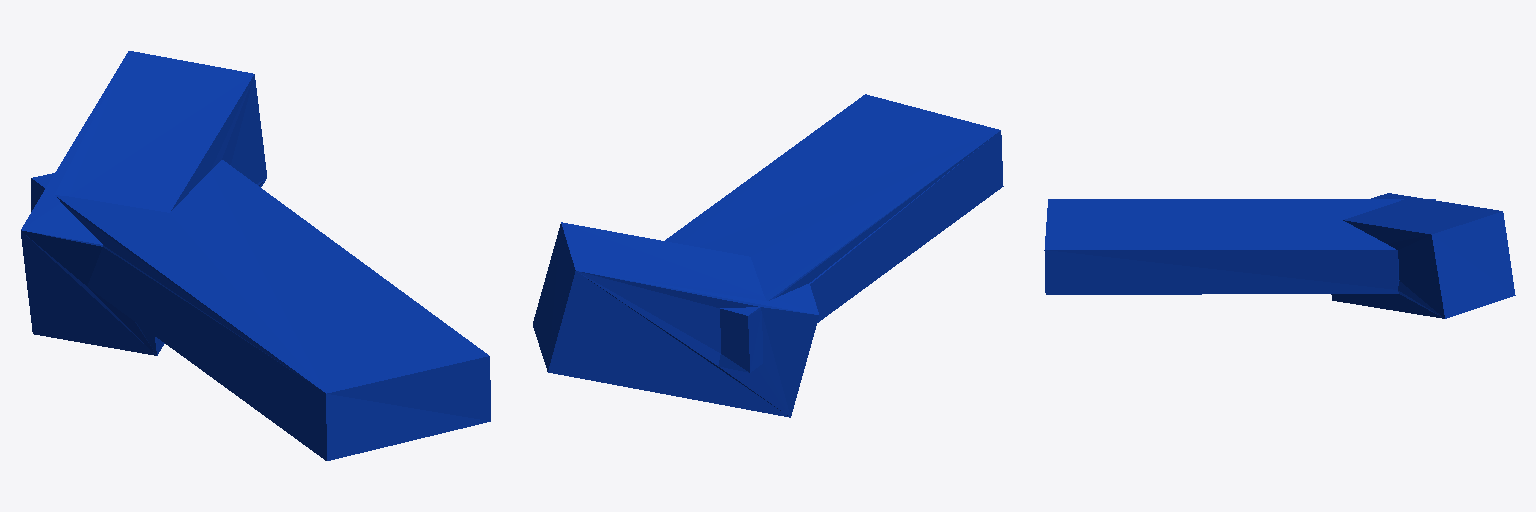
URDF robot description (blob764):

<robot name="blob764">
  <link name="random_obj_764">
    <contact>
      <lateral_friction value="1.0"/>
      <rolling_friction value="0.0"/>
      <inertia_scaling value="3.0"/>
      <contact_cfm value="0.0"/>
      <contact_erp value="1.0"/>
    </contact>
    <inertial>
      <origin rpy="0 0 0" xyz="0 0 0"/>
      <mass value="0.0986"/>
      <inertia ixx="1" ixy="0" ixz="0" iyy="1" iyz="0" izz="0"/>
    </inertial>
    <visual>
      <origin rpy="0 0 0" xyz="0 0 0"/>
      <geometry>
        <mesh filename="764.obj" scale="0.0092 0.0092 0.0092"/>
      </geometry>
      <material name="blockmat">
        <color rgba="0.09 0.29 0.73 1"/>
      </material>
    </visual>
    <collision>
      <origin rpy="0 0 0" xyz="0 0 0"/>
      <geometry>
        <mesh filename="764_coll.obj" scale="0.0092 0.0092 0.0092"/>
      </geometry>
    </collision>
  </link>
</robot>

--- What the picture shows (computed from the rendered views, not written in the file) ---
3 views of the same robot in one strip: view 1: azimuth 30°, elevation 25°; view 2: azimuth 150°, elevation 25°; view 3: azimuth 270°, elevation 25° (orthographic).
Robot: blob764 — 1 links, 0 joints (none); root link random_obj_764; default pose: all joints at 0.
Visible links, largest first — view 1: random_obj_764; view 2: random_obj_764; view 3: random_obj_764.
Link boxes in pixels (left/top/right/bottom): random_obj_764: left=21, top=51, right=490, bottom=460; random_obj_764: left=533, top=94, right=1003, bottom=417; random_obj_764: left=1044, top=193, right=1515, bottom=318.
Size in the robot's own frame: 0.0628 by 0.1342 by 0.0384 metres.
Meshes: 1 distinct files referenced, 1 mesh visuals loaded (1 OBJ).
